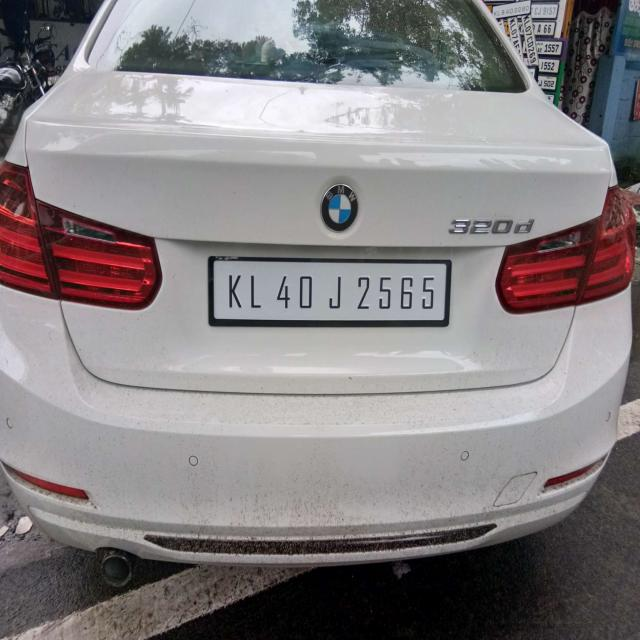Number-Plate: (212, 260, 446, 322)
